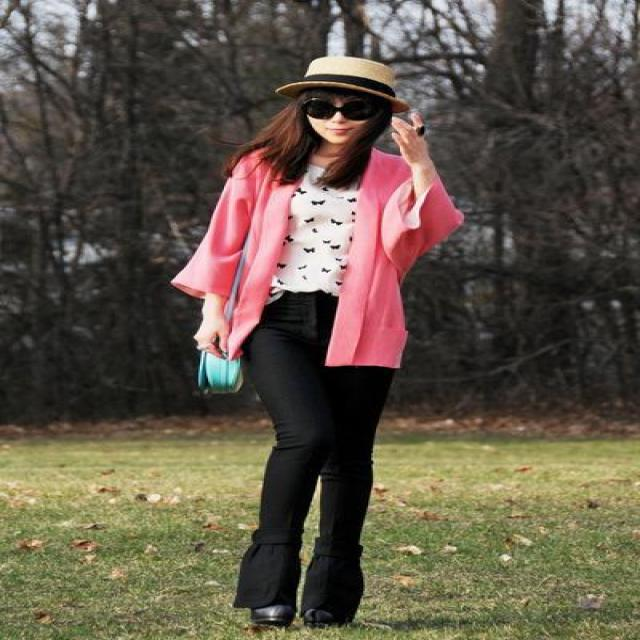bag: (198, 353, 238, 384)
hat: (306, 38, 436, 96)
jacket: (173, 150, 462, 367)
pants: (236, 290, 394, 601)
shirt: (272, 166, 357, 292)
shoe: (234, 586, 362, 632)
sunglass: (296, 100, 344, 140)
